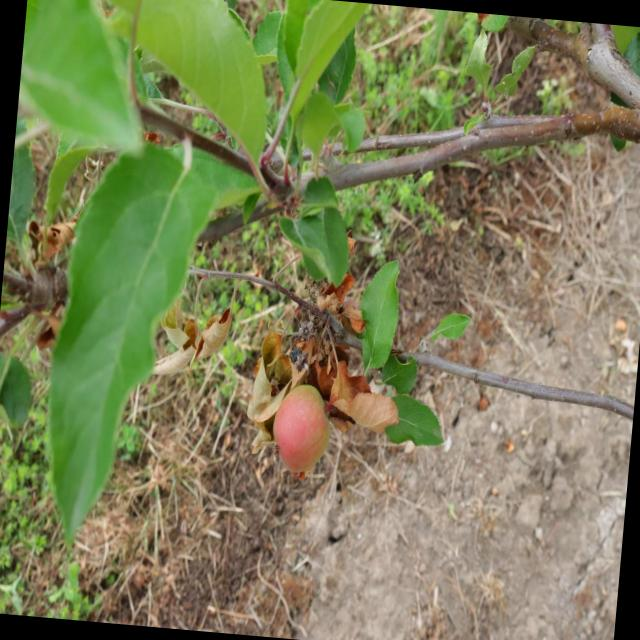-FireBlight-: (296, 282, 394, 426)
